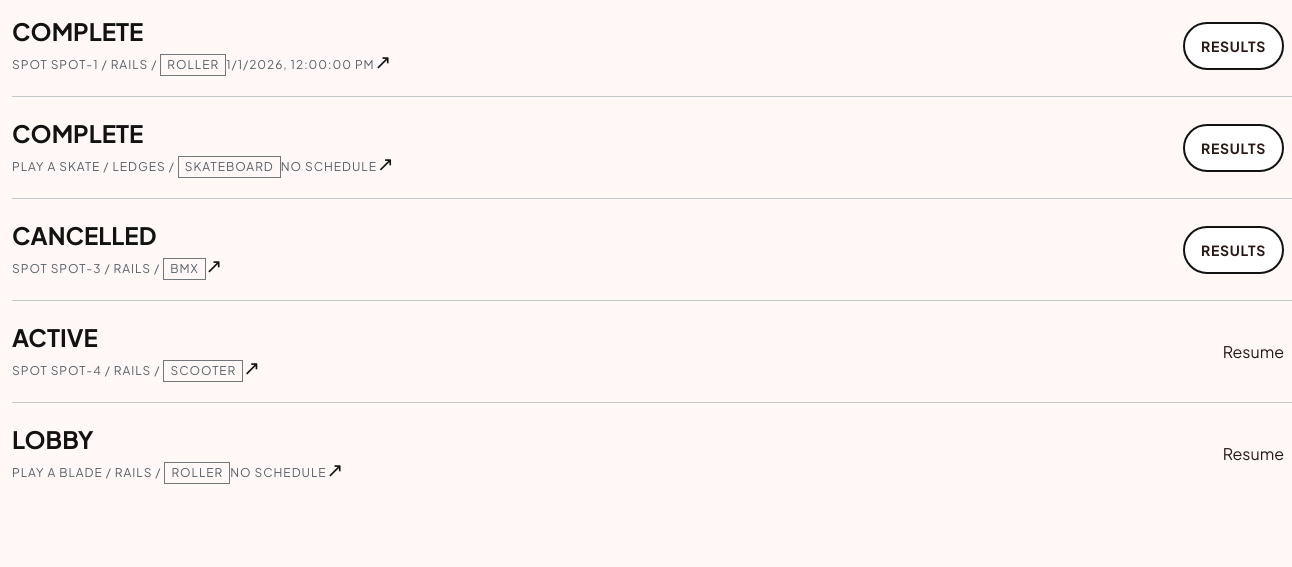
Test: MatchList — award history replay › handles fetch failure gracefully
Expected: the text "complete" is shown 2 times, [12,16,143,46]; [12,118,143,148]
Click the button with aria-label "View championship results for Play a Blade — roller" at {"x": 1234, "y": 46}, box [1183,22,1284,70]
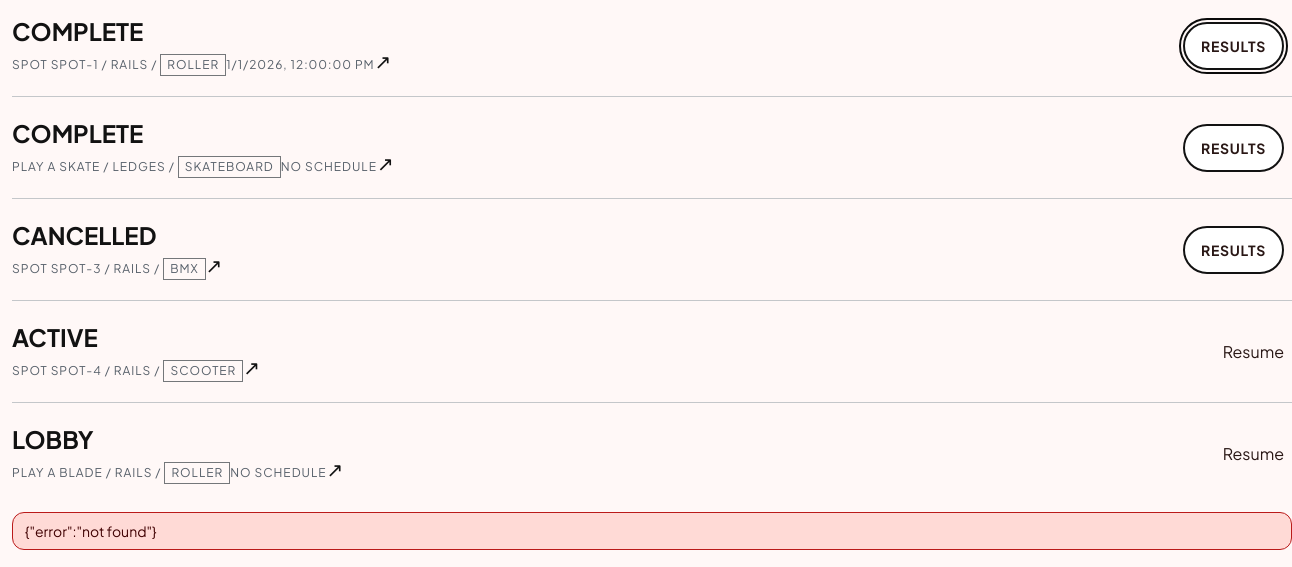
Expected: the message "{\"error\":\"not found\"}" is shown, [12,512,1291,550]
